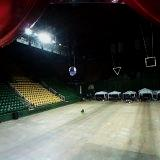Green_Balloon: (80, 108, 85, 114)
Purple_Balloon: (68, 66, 76, 76)
Yellow_Square_GShape: (145, 57, 156, 68)
Yellow_Triangle_Gshape: (112, 66, 121, 76)
